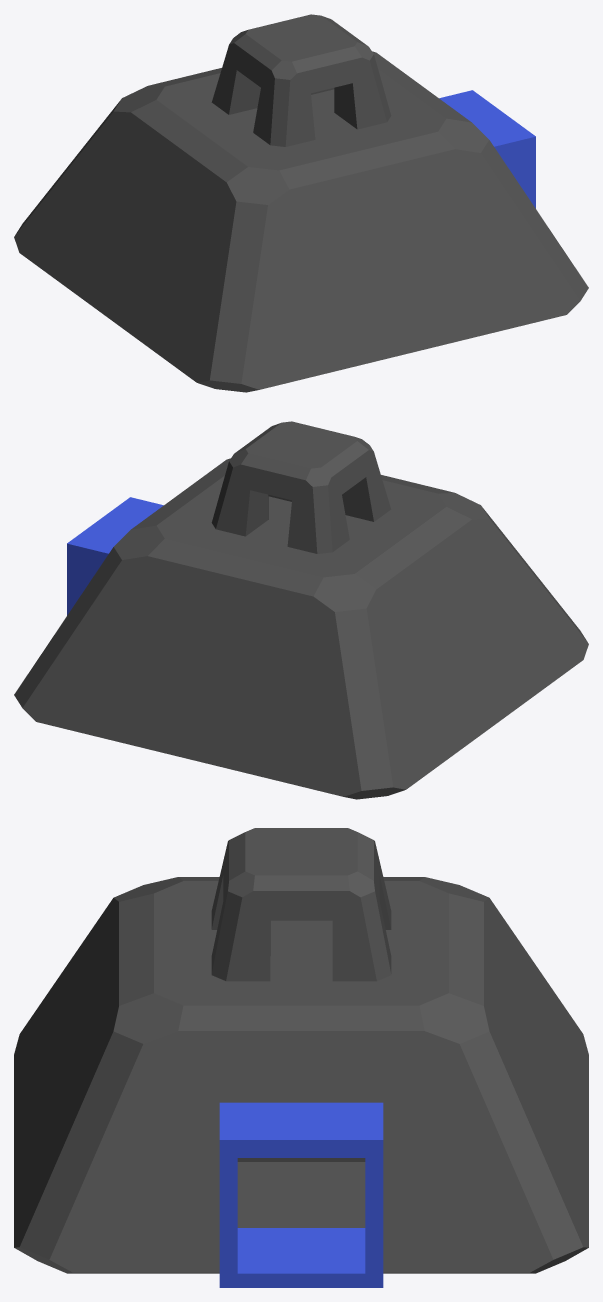
Rendered from Bunker.fbx.
3 renders of one model, top to bottom at view 1: azimuth 30°, elevation 25°; view 2: azimuth 150°, elevation 25°; view 3: azimuth 270°, elevation 25°, orthographic. The views are drawn at different scales.
Parts seen in each view (by area): view 1: Bunker; view 2: Bunker; view 3: Bunker.
Part boxes in pixels (x1,y1,x2,y2): Bunker: (14, 14, 588, 392); Bunker: (14, 421, 588, 799); Bunker: (14, 828, 588, 1287).
Size of the model in its own units: 903 by 525 by 881.
